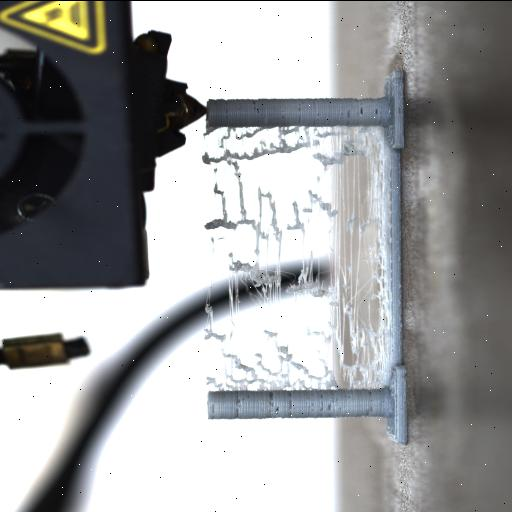stringing: (201, 128, 389, 388)
